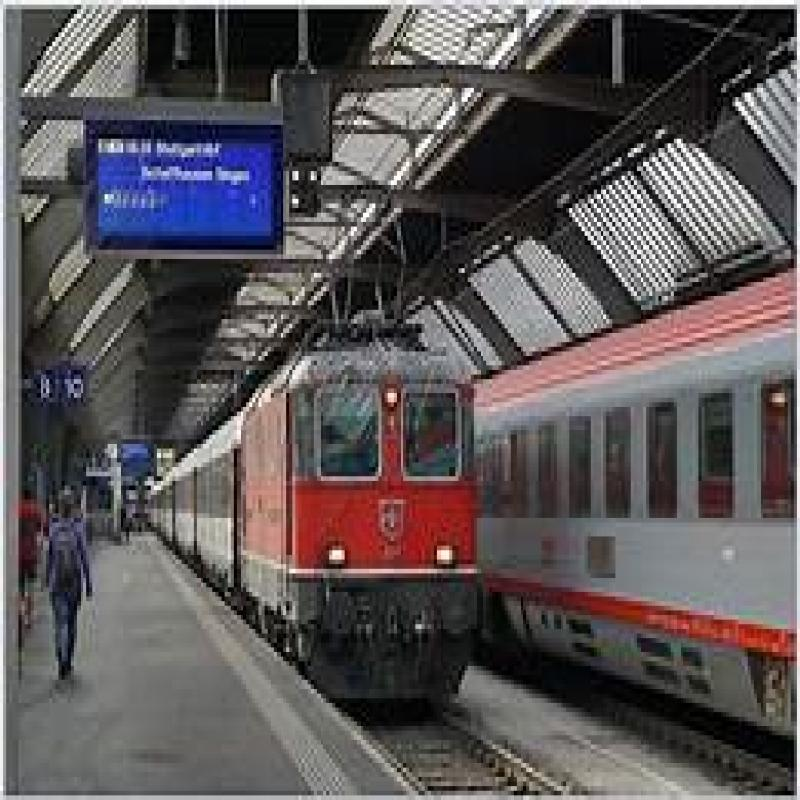train: (127, 389, 512, 644)
